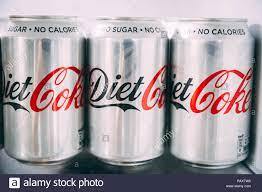can: (1, 10, 87, 173), (167, 13, 253, 169), (85, 9, 168, 170)
